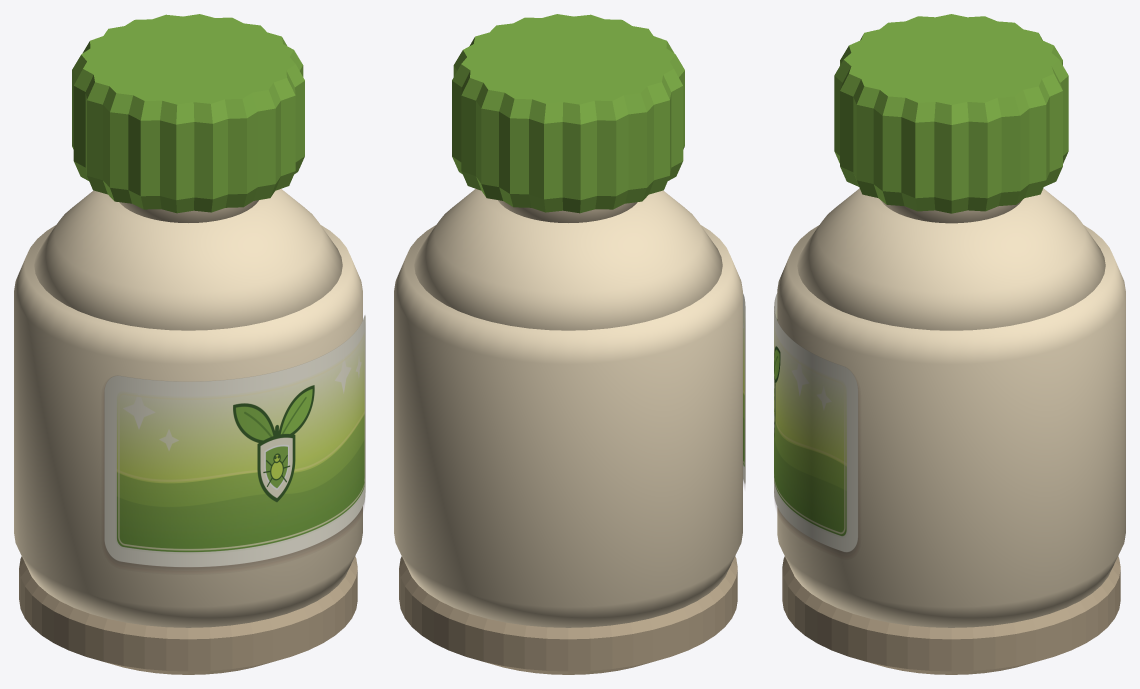
File: LiquidPreparationBottleAphidControl.glb
3 renders of one model, left to right at view 1: azimuth 30°, elevation 25°; view 2: azimuth 150°, elevation 25°; view 3: azimuth 270°, elevation 25°, orthographic.
Visible parts, largest first — view 1: LiquidPreparationBottleAphidControl_Body, LiquidPreparationBottleAphidControl_Label, LiquidPreparationBottleAphidControl_Cap, LiquidPreparationBottleAphidControl_Shoulder, LiquidPreparationBottleAphidControl_Base_Rim, LiquidPreparationBottleAphidControl_Neck; view 2: LiquidPreparationBottleAphidControl_Body, LiquidPreparationBottleAphidControl_Cap, LiquidPreparationBottleAphidControl_Shoulder, LiquidPreparationBottleAphidControl_Base_Rim, LiquidPreparationBottleAphidControl_Neck, LiquidPreparationBottleAphidControl_Label; view 3: LiquidPreparationBottleAphidControl_Body, LiquidPreparationBottleAphidControl_Cap, LiquidPreparationBottleAphidControl_Shoulder, LiquidPreparationBottleAphidControl_Label, LiquidPreparationBottleAphidControl_Base_Rim, LiquidPreparationBottleAphidControl_Neck.
Boxes of the visible parts, x1,y1,x2,y2 form: LiquidPreparationBottleAphidControl_Body: [14, 225, 362, 627]; LiquidPreparationBottleAphidControl_Label: [104, 315, 365, 570]; LiquidPreparationBottleAphidControl_Cap: [72, 14, 304, 213]; LiquidPreparationBottleAphidControl_Shoulder: [34, 189, 342, 330]; LiquidPreparationBottleAphidControl_Base_Rim: [19, 556, 357, 674]; LiquidPreparationBottleAphidControl_Neck: [119, 200, 258, 222]; LiquidPreparationBottleAphidControl_Body: [394, 225, 742, 627]; LiquidPreparationBottleAphidControl_Cap: [452, 14, 684, 213]; LiquidPreparationBottleAphidControl_Shoulder: [414, 189, 722, 330]; LiquidPreparationBottleAphidControl_Base_Rim: [399, 556, 737, 674]; LiquidPreparationBottleAphidControl_Neck: [498, 200, 637, 222]; LiquidPreparationBottleAphidControl_Label: [743, 293, 745, 485]; LiquidPreparationBottleAphidControl_Body: [777, 225, 1125, 627]; LiquidPreparationBottleAphidControl_Cap: [834, 14, 1068, 213]; LiquidPreparationBottleAphidControl_Shoulder: [797, 188, 1105, 330]; LiquidPreparationBottleAphidControl_Label: [774, 293, 858, 554]; LiquidPreparationBottleAphidControl_Base_Rim: [782, 556, 1120, 674]; LiquidPreparationBottleAphidControl_Neck: [881, 200, 1021, 223].
Size of the model in its own units: 0.69 by 1.23 by 0.696.
Materials: 5 (1 with a texture image).
